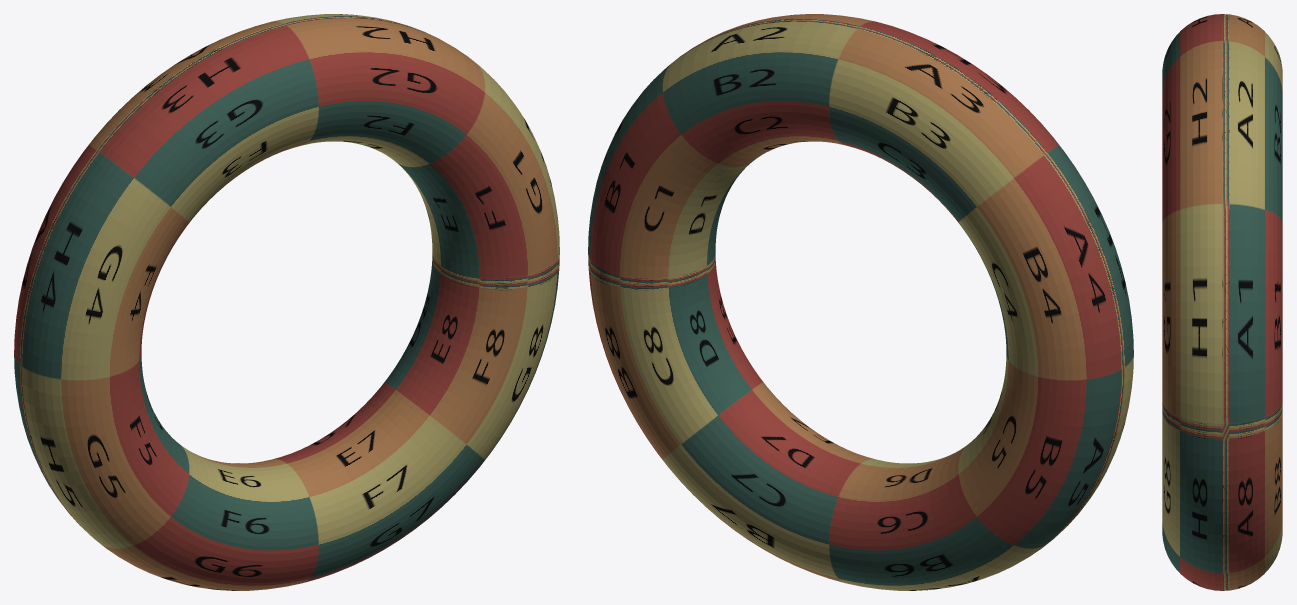
Rendered from texture_torus_R8_r6.glb.
The picture shows the model from 3 angles, left to right: view 1: azimuth 30°, elevation 25°; view 2: azimuth 150°, elevation 25°; view 3: azimuth 270°, elevation 25°; orthographic projection. The views are drawn at different scales.
Parts seen in each view (by area): view 1: world; view 2: world; view 3: world.
Part boxes in pixels (box(x1,y1,x2,y2)): world: box(14, 14, 559, 590); world: box(588, 14, 1133, 590); world: box(1162, 14, 1282, 590).
Bounding box in the file's own units: 35.11 × 35.11 × 7.32.
1 material, 1 textured.
